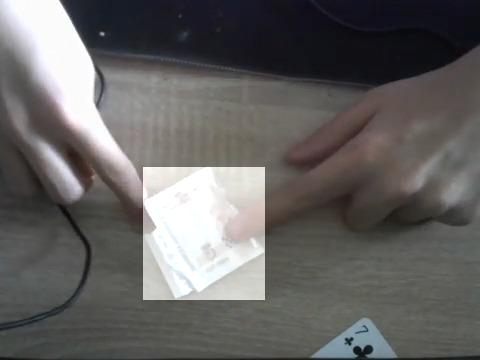5leva: (143, 167, 265, 300)
